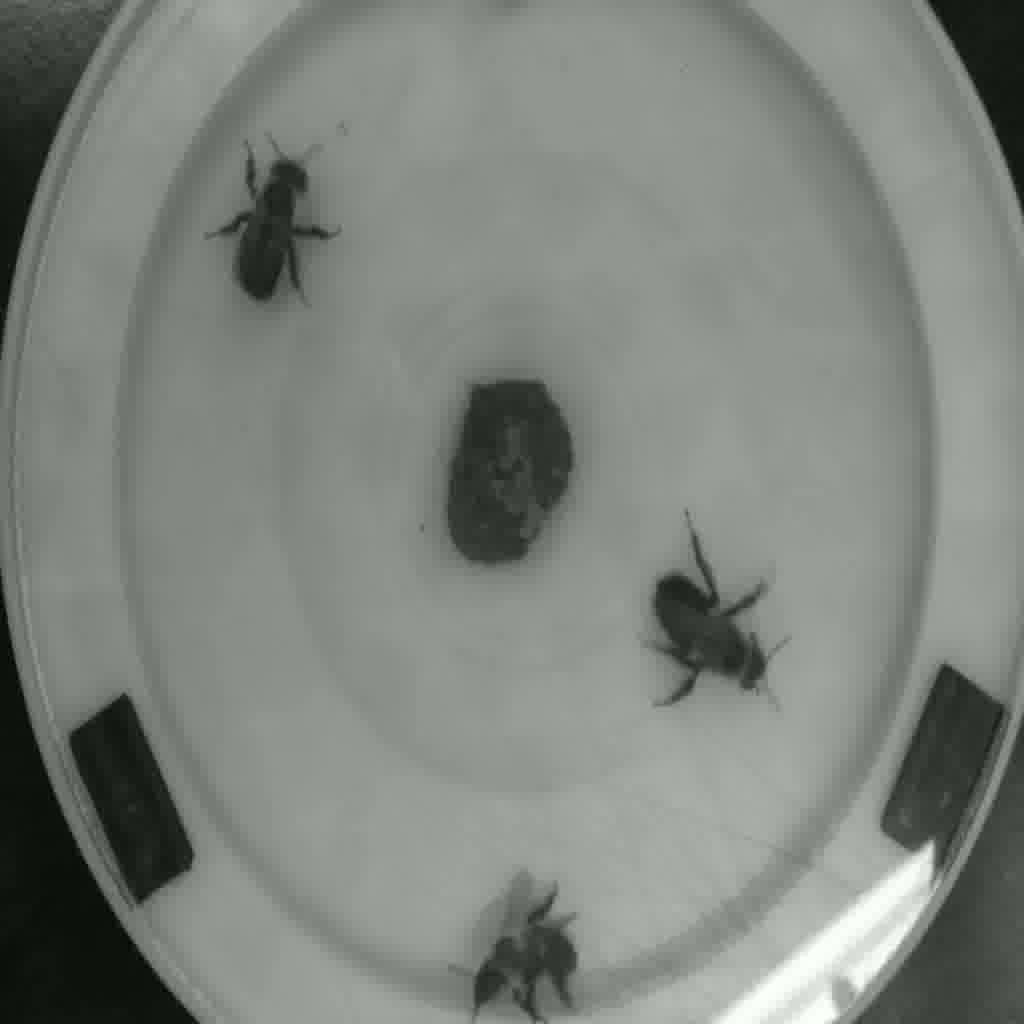bee: (639, 529, 806, 721), (228, 129, 350, 310), (453, 888, 598, 1015)
